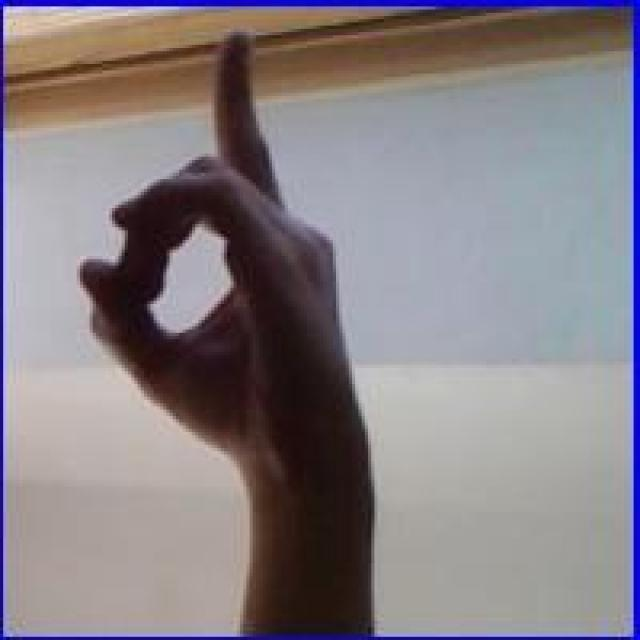D: (75, 26, 370, 506)
